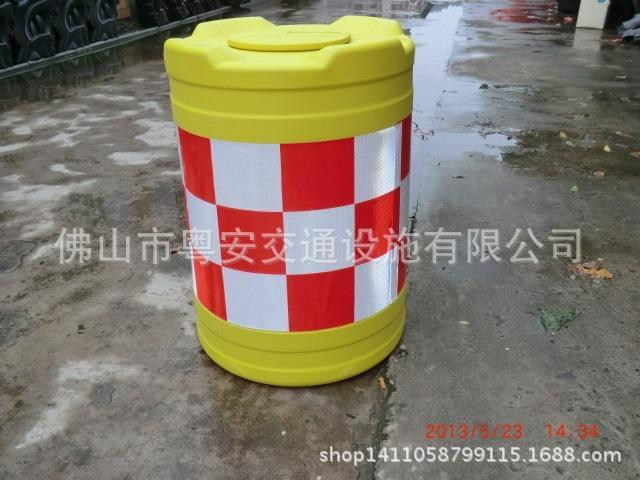sign: (148, 11, 430, 395)
